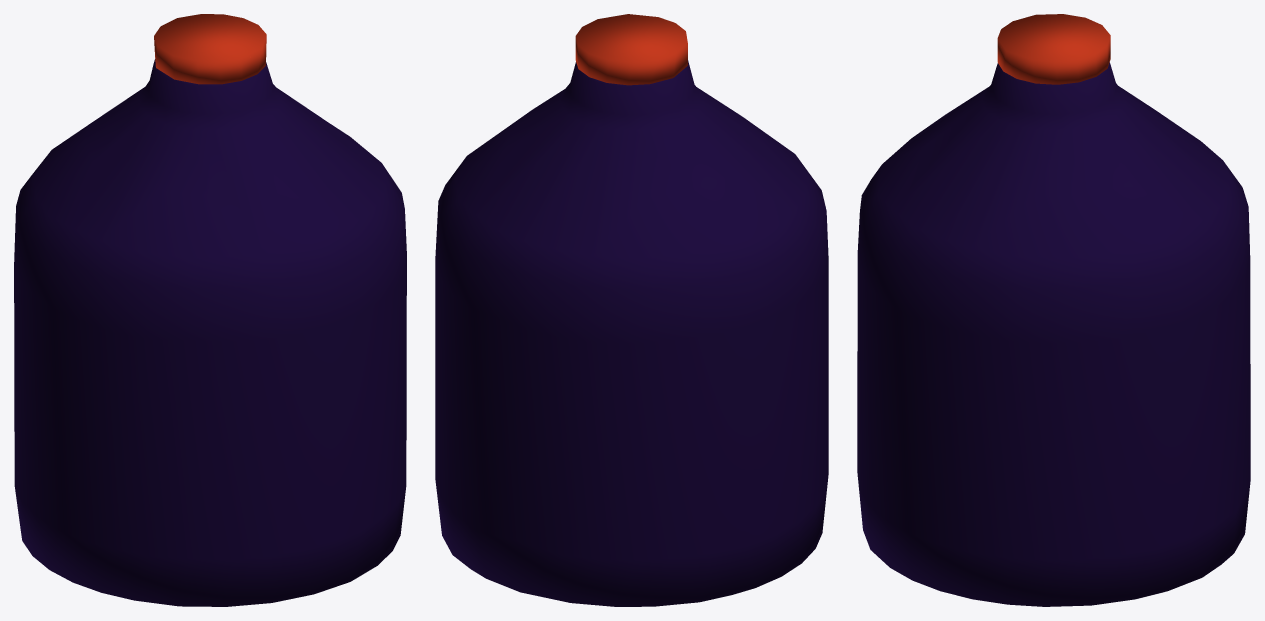
File: Bottle02.fbx
3 views of the same model, side by side, from view 1: azimuth 30°, elevation 25°; view 2: azimuth 150°, elevation 25°; view 3: azimuth 270°, elevation 25° (orthographic).
Visible parts, largest first — view 1: Bottom02_Baked, Bottom02 cap_Baked; view 2: Bottom02_Baked, Bottom02 cap_Baked; view 3: Bottom02_Baked, Bottom02 cap_Baked.
Part boxes in pixels (left/top/right/bottom): Bottom02_Baked: left=14, top=59, right=406, bottom=606; Bottom02 cap_Baked: left=154, top=14, right=266, bottom=84; Bottom02_Baked: left=435, top=60, right=828, bottom=606; Bottom02 cap_Baked: left=575, top=14, right=687, bottom=85; Bottom02_Baked: left=857, top=62, right=1250, bottom=606; Bottom02 cap_Baked: left=997, top=14, right=1110, bottom=84.
Size of the model in its own units: 13.28 by 18.68 by 13.28.
